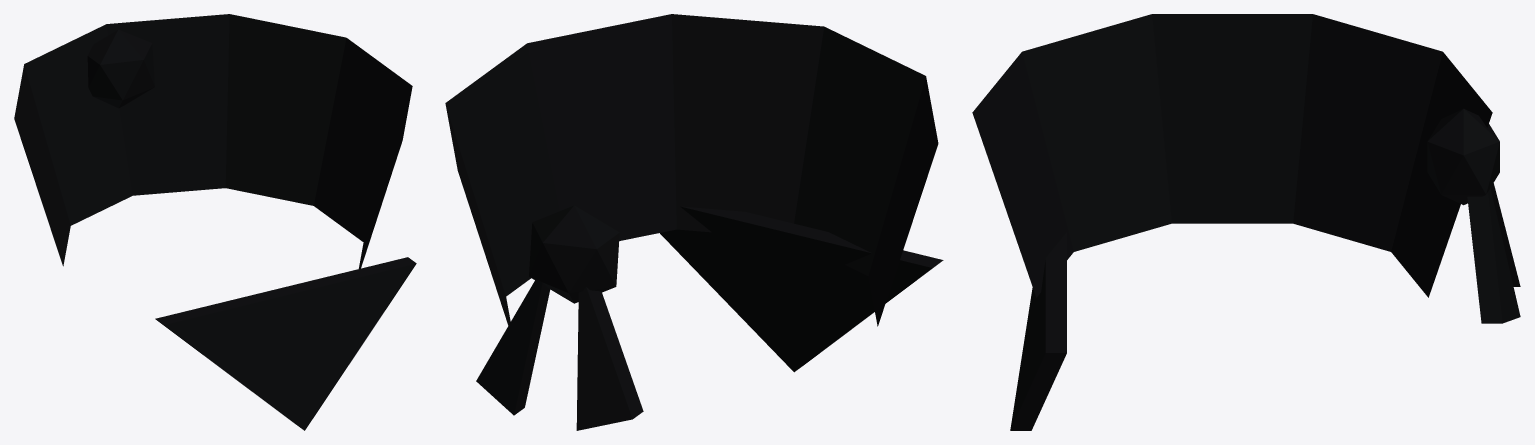
Rendered from bandana.glb.
3 views of the same model, side by side, from view 1: azimuth 30°, elevation 25°; view 2: azimuth 150°, elevation 25°; view 3: azimuth 270°, elevation 25° (orthographic). The views are drawn at different scales.
Parts seen in each view (by area): view 1: bandana; view 2: bandana; view 3: bandana.
Boxes of the visible parts, x1,y1,x2,y2 form: bandana: [14, 14, 416, 430]; bandana: [445, 14, 943, 430]; bandana: [972, 14, 1520, 430].
Bounding box in the file's own units: 0.2625 × 0.2 × 0.3083.
1 material, 1 textured.
